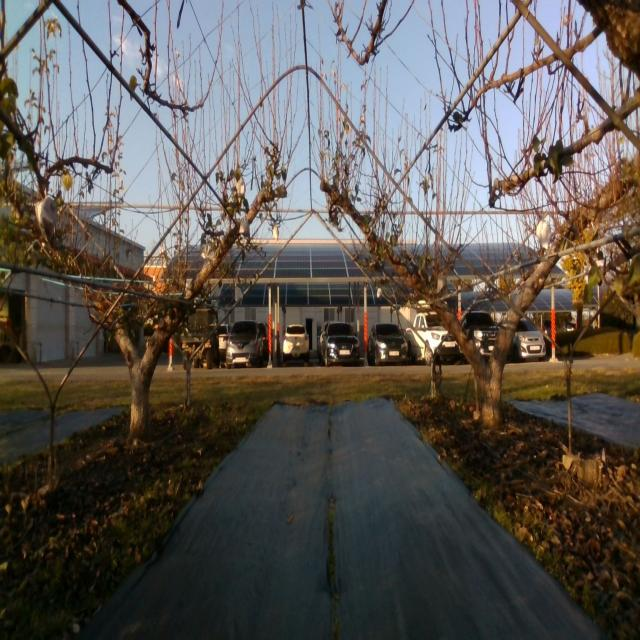pearbags: (36, 196, 57, 243), (536, 219, 552, 250), (239, 216, 250, 237), (205, 240, 216, 261), (236, 177, 246, 197)
